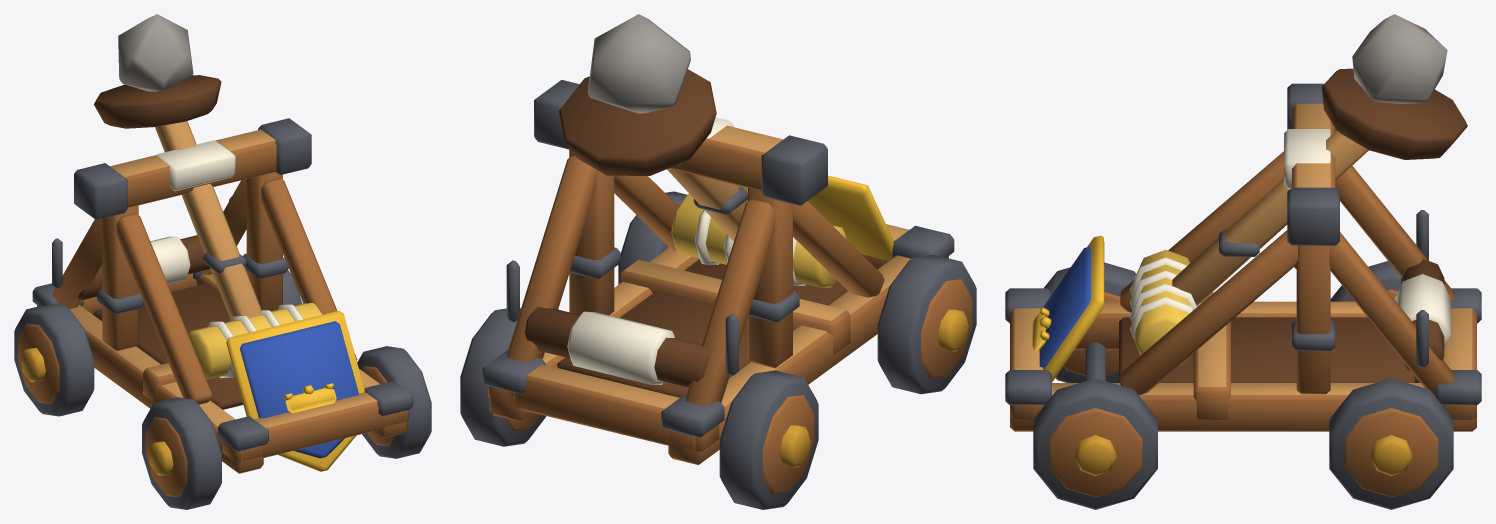
File: X_MedSiegeCatapult.fbx
3 views of the same model, side by side, from view 1: azimuth 30°, elevation 25°; view 2: azimuth 150°, elevation 25°; view 3: azimuth 270°, elevation 25° (orthographic). The views are drawn at different scales.
Parts seen in each view (by area): view 1: M_SiegeCatapult; view 2: M_SiegeCatapult; view 3: M_SiegeCatapult.
Boxes of the visible parts, left/top/right/bottom form: M_SiegeCatapult: left=14, top=14, right=431, bottom=509; M_SiegeCatapult: left=460, top=14, right=976, bottom=509; M_SiegeCatapult: left=1005, top=14, right=1481, bottom=509.
Bounding box in the file's own units: 2.26 × 3.05 × 3.06.
1 material, 1 textured.
